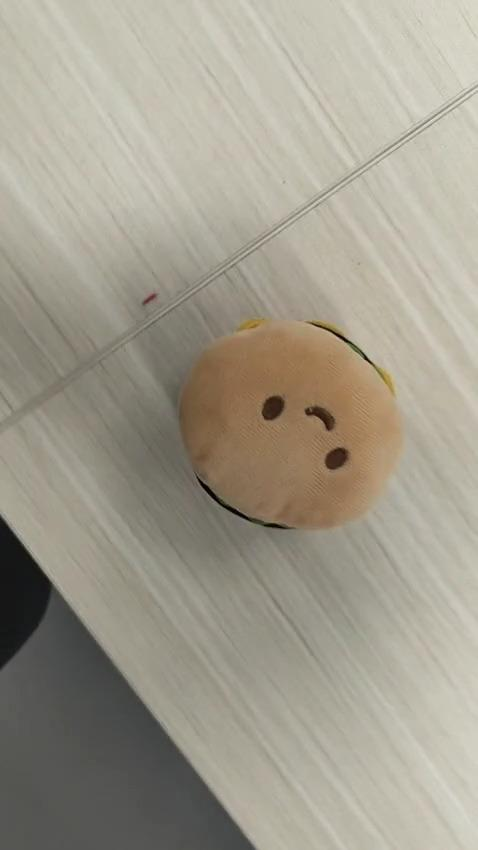hamburger: (178, 307, 401, 542)
